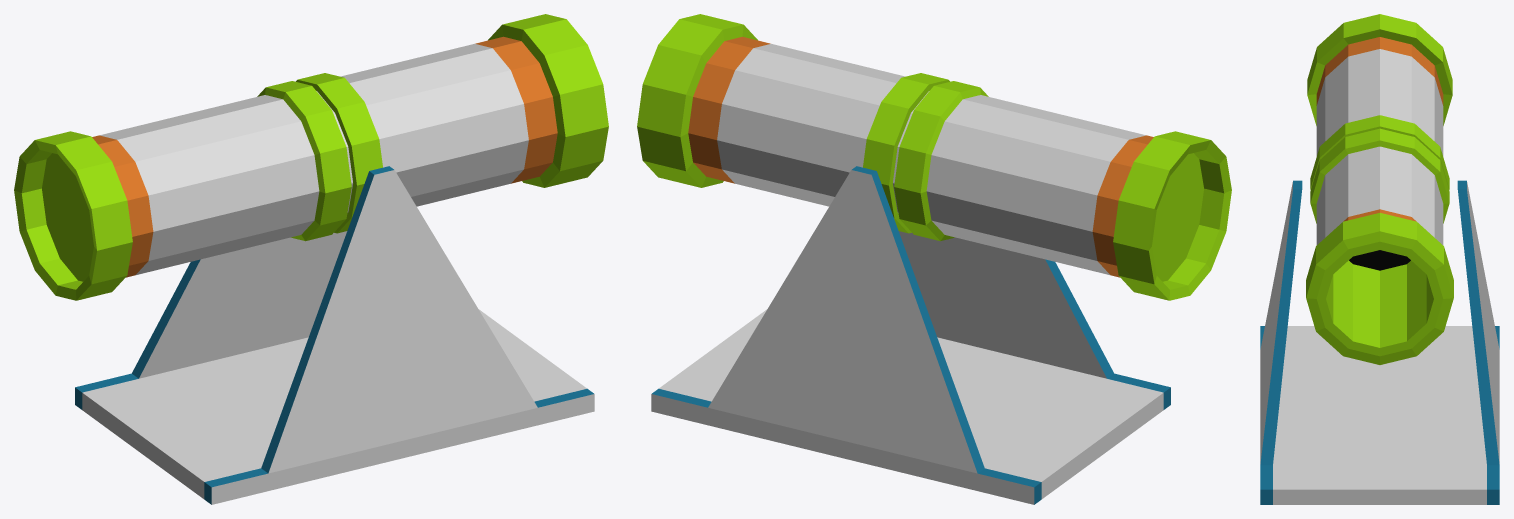
Rendered from canon.glb.
The picture shows the model from 3 angles, left to right: view 1: azimuth 30°, elevation 25°; view 2: azimuth 150°, elevation 25°; view 3: azimuth 270°, elevation 25°; orthographic projection. The views are drawn at different scales.
Visible parts, largest first — view 1: Canon; view 2: Canon; view 3: Canon.
Part boxes in pixels (box(x1,y1,x2,y2)): Canon: box(14, 14, 608, 504); Canon: box(637, 14, 1231, 504); Canon: box(1260, 14, 1499, 504).
Size of the model in its own units: 2.06 by 1.28 by 0.9526.
